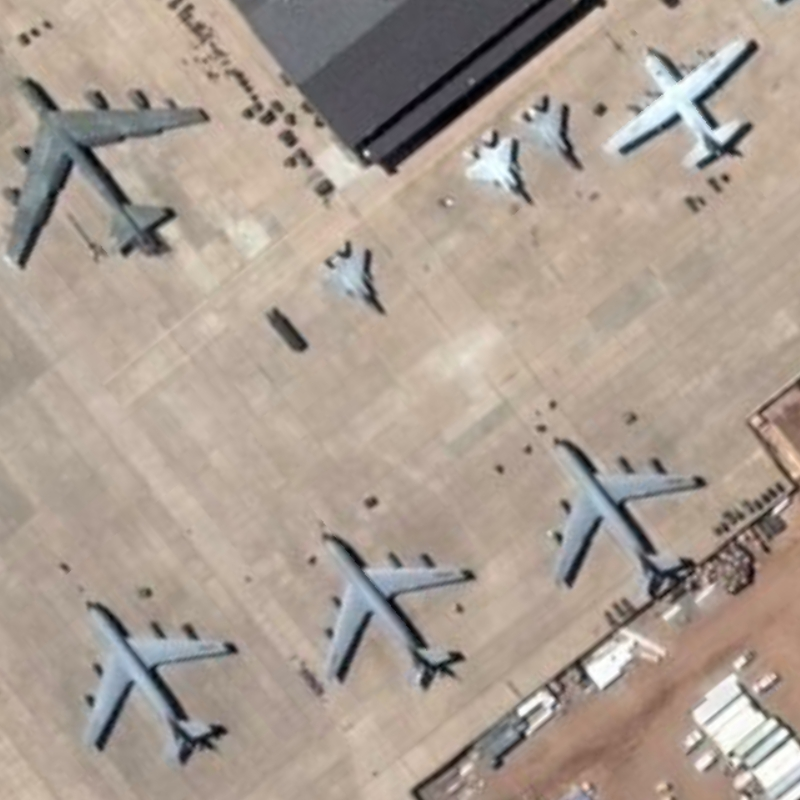A13: (447, 123, 541, 210), (315, 236, 398, 323), (510, 97, 591, 182)
A14: (539, 420, 715, 611), (75, 594, 249, 772), (302, 523, 485, 692)
A2: (596, 28, 770, 178)
A8: (2, 60, 215, 280)
